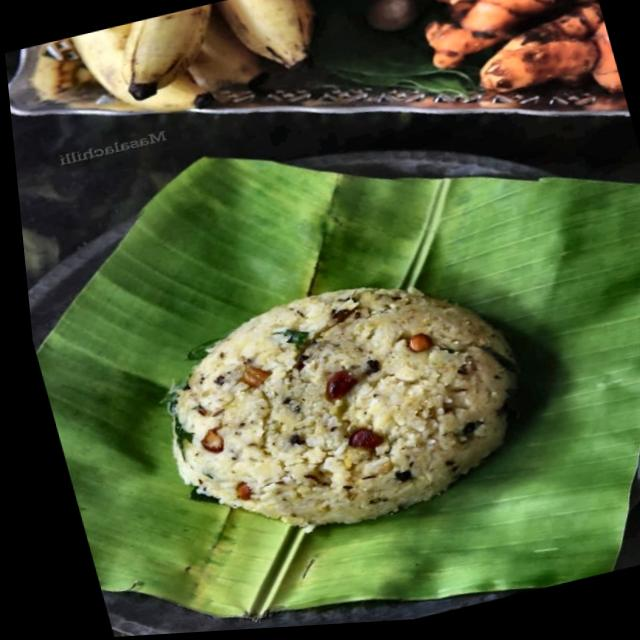PONGAL: (170, 287, 514, 529)
